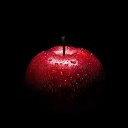apple: (24, 43, 105, 107)
